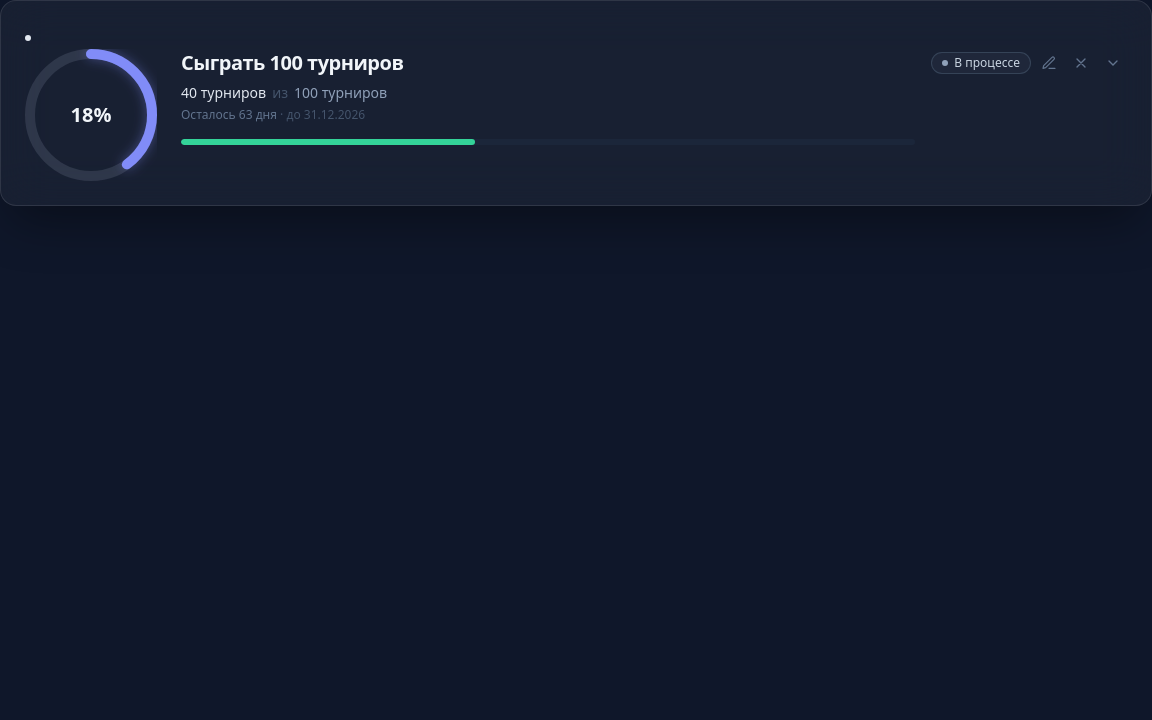
it: GoalCard › reveals the card from the pencil and collapses it with the chevron
The image size is (1152, 720).
Expected: the text "Дневник" is not shown
Click the button named "Редактировать цель": [1049, 63] box [1035,49,1063,77]
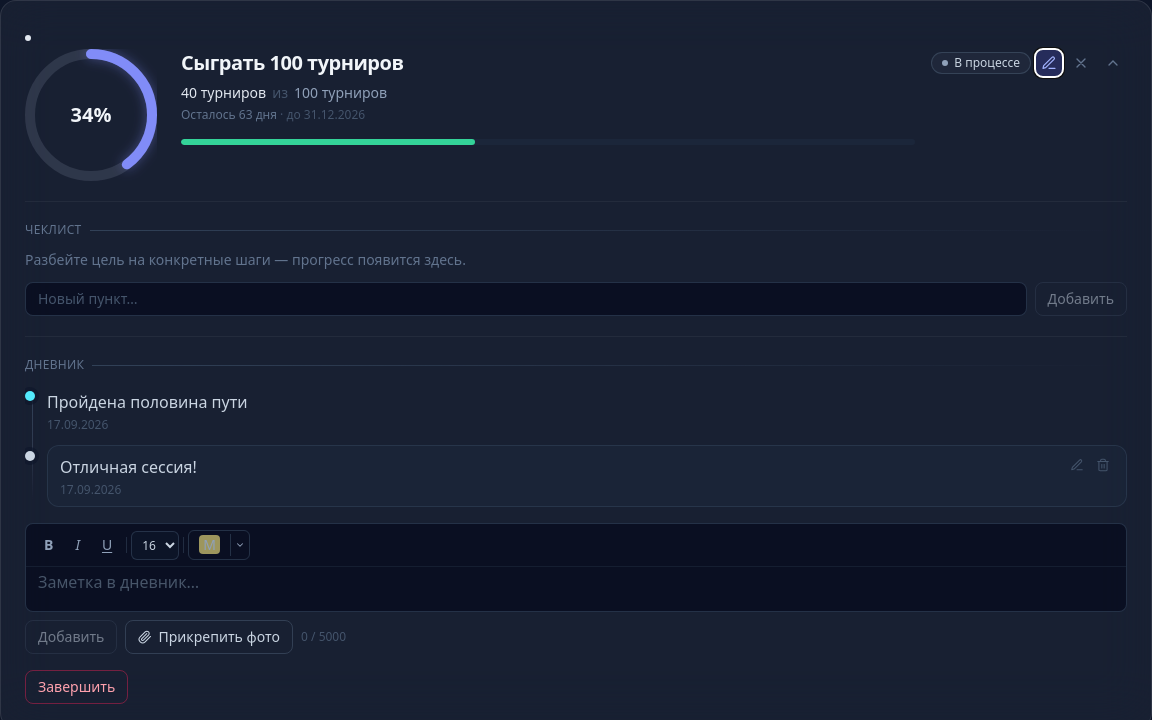
Now the text "Дневник" is shown, box [25,356,84,373]
Now the field named "Заметка в дневник" is shown, box [26,567,1126,611]
Click the button named "Свернуть": [1113, 63] box [1099,49,1127,77]
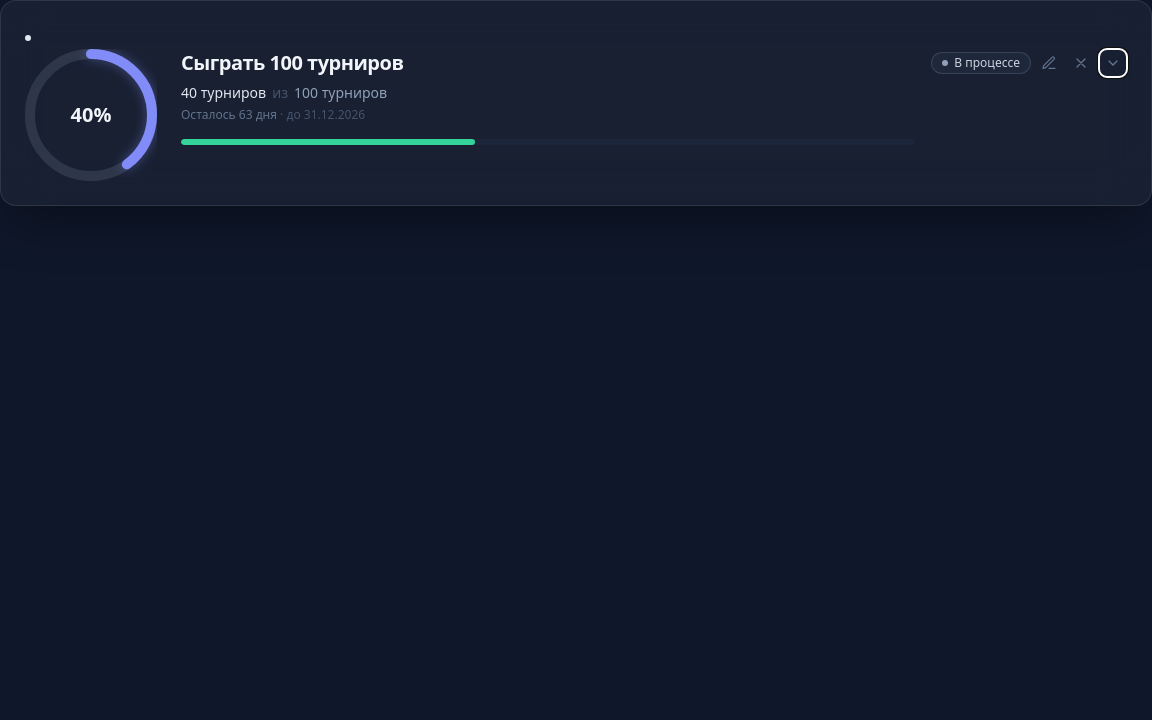
Expected: the button that starts with "Сыграть 100 турниров" is shown, [25,49,915,181]
Now the text "Дневник" is gone
